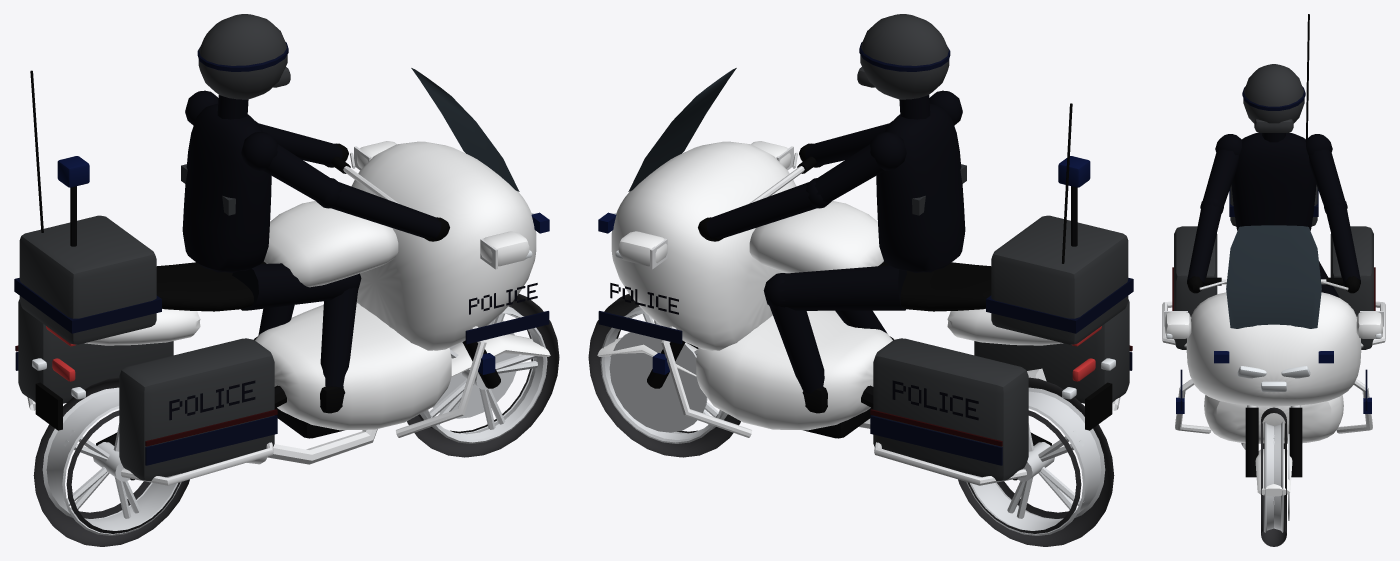
File: m_police.glb
3 renders of one model, left to right at view 1: azimuth 30°, elevation 25°; view 2: azimuth 150°, elevation 25°; view 3: azimuth 270°, elevation 25°, orthographic. The views are drawn at different scales.
Parts seen in each view (by area): view 1: Fairing, LowerFairing, Pannier-1, TopCase, WheelR, Torso, WheelF, Tank, Pannier1, Helmet, Seat, Thigh.001 (+21 smaller); view 2: Fairing, Pannier1, LowerFairing, TopCase, WheelR, Torso, WheelF, Tank, Pannier-1, Helmet, Thigh, Seat (+19 smaller); view 3: Fairing, Screen, Torso, LowerFairing, WheelF, Helmet, Pannier-1, Pannier1, Forearm, Forearm.001, UpperArm, UpperArm.001 (+14 smaller).
Part boxes in pixels (x1=…): Fairing: x1=351, y1=141, x2=536, y2=350; LowerFairing: x1=255, y1=303, x2=451, y2=430; Pannier-1: x1=119, y1=338, x2=274, y2=480; TopCase: x1=19, y1=215, x2=156, y2=344; WheelR: x1=33, y1=377, x2=189, y2=546; Torso: x1=182, y1=103, x2=271, y2=272; WheelF: x1=407, y1=294, x2=559, y2=457; Tank: x1=264, y1=201, x2=398, y2=287; Pannier1: x1=18, y1=299, x2=173, y2=403; Helmet: x1=198, y1=14, x2=287, y2=99; Seat: x1=156, y1=261, x2=266, y2=311; Thigh.001: x1=232, y1=263, x2=353, y2=310; Fairing: x1=611, y1=141, x2=796, y2=350; Pannier1: x1=873, y1=338, x2=1028, y2=480; LowerFairing: x1=696, y1=310, x2=892, y2=430; TopCase: x1=991, y1=215, x2=1128, y2=344; WheelR: x1=958, y1=377, x2=1114, y2=546; Torso: x1=876, y1=103, x2=965, y2=272; WheelF: x1=588, y1=294, x2=740, y2=457; Tank: x1=749, y1=201, x2=883, y2=273; Pannier-1: x1=974, y1=299, x2=1129, y2=403; Helmet: x1=860, y1=14, x2=949, y2=99; Thigh: x1=778, y1=265, x2=906, y2=310; Seat: x1=878, y1=262, x2=991, y2=311; Fairing: x1=1186, y1=292, x2=1361, y2=406; Screen: x1=1226, y1=225, x2=1321, y2=328; Torso: x1=1231, y1=132, x2=1316, y2=230; LowerFairing: x1=1204, y1=395, x2=1343, y2=443; WheelF: x1=1261, y1=407, x2=1289, y2=546; Helmet: x1=1243, y1=64, x2=1304, y2=123; Pannier-1: x1=1174, y1=226, x2=1217, y2=349; Pannier1: x1=1330, y1=226, x2=1373, y2=349; Forearm: x1=1326, y1=203, x2=1360, y2=286; Forearm.001: x1=1187, y1=203, x2=1221, y2=286; UpperArm: x1=1309, y1=149, x2=1344, y2=205; UpperArm.001: x1=1203, y1=149, x2=1238, y2=205.
Size of the model in its own units: 2.14 by 1.94 by 1.03.
